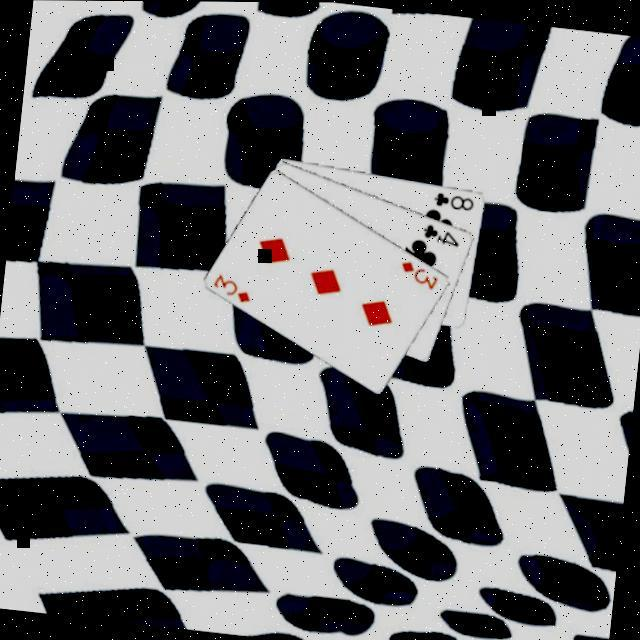3D: (206, 272, 254, 308), (393, 258, 440, 294)
4C: (417, 221, 461, 250)
8C: (428, 188, 476, 215)
